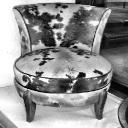chair_success: (4, 0, 116, 123)
